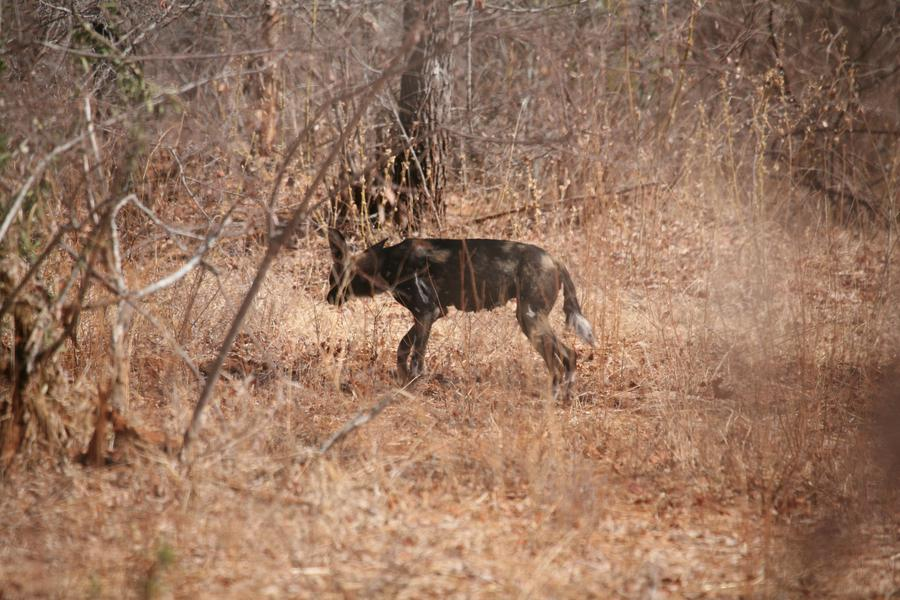wilddog: (344, 226, 581, 365)
